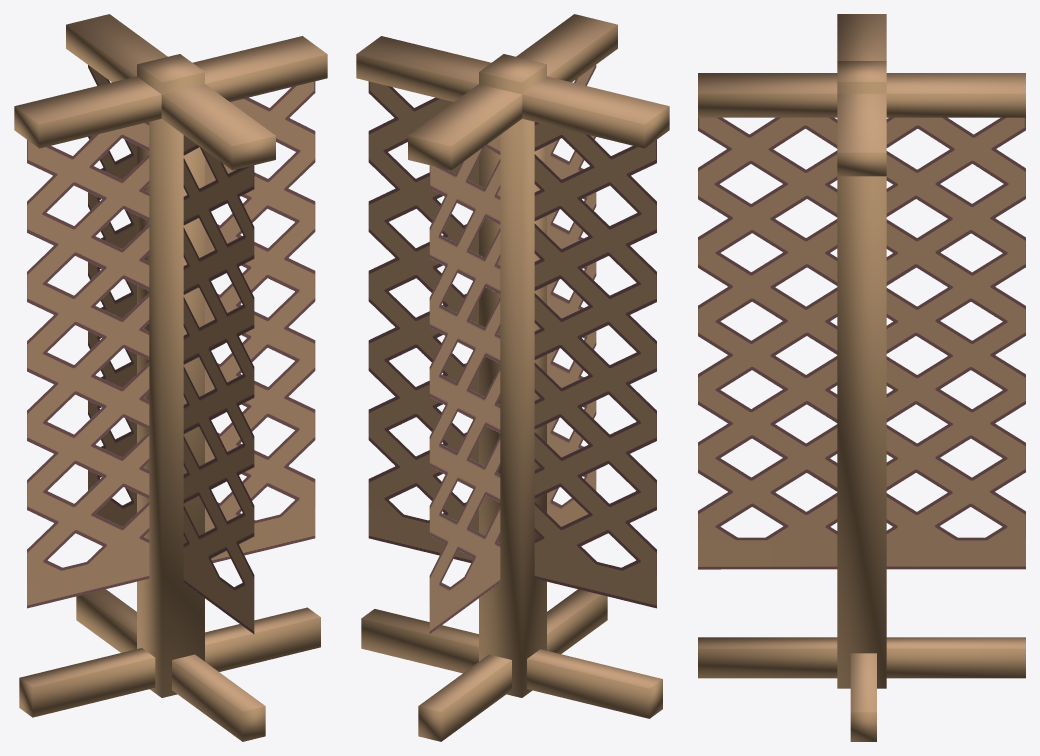
File: Fence_RF_20008_06_SM.fbx
3 renders of one model, left to right at view 1: azimuth 30°, elevation 25°; view 2: azimuth 150°, elevation 25°; view 3: azimuth 270°, elevation 25°, orthographic.
Parts seen in each view (by area): view 1: Fence_RF_20008_06_P, Fence_RF_20008_06; view 2: Fence_RF_20008_06_P, Fence_RF_20008_06; view 3: Fence_RF_20008_06_P, Fence_RF_20008_06.
Boxes of the visible parts, x1=… form: Fence_RF_20008_06_P: x1=27, y1=65, x2=315, y2=633; Fence_RF_20008_06: x1=14, y1=14, x2=327, y2=741; Fence_RF_20008_06_P: x1=368, y1=65, x2=656, y2=633; Fence_RF_20008_06: x1=356, y1=14, x2=669, y2=741; Fence_RF_20008_06_P: x1=698, y1=117, x2=1025, y2=569; Fence_RF_20008_06: x1=698, y1=14, x2=1025, y2=741.
Size of the model in its own units: 100 by 204 by 99.98.
1 material, 1 textured.
